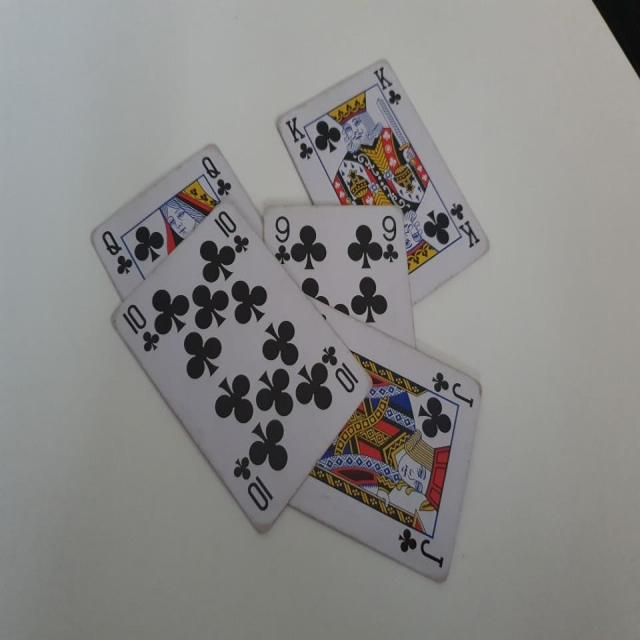10 Trefoils: (110, 196, 371, 537)
9 Trefoils: (262, 204, 416, 352)
J Trefoils: (287, 294, 480, 582)
K Trefoils: (276, 59, 490, 305)
Q Trefoils: (90, 143, 266, 300)
